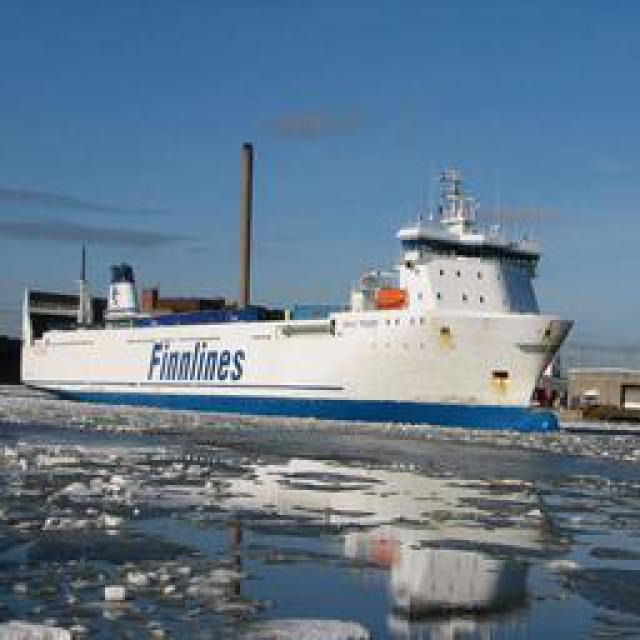Ship: (29, 182, 572, 435)
